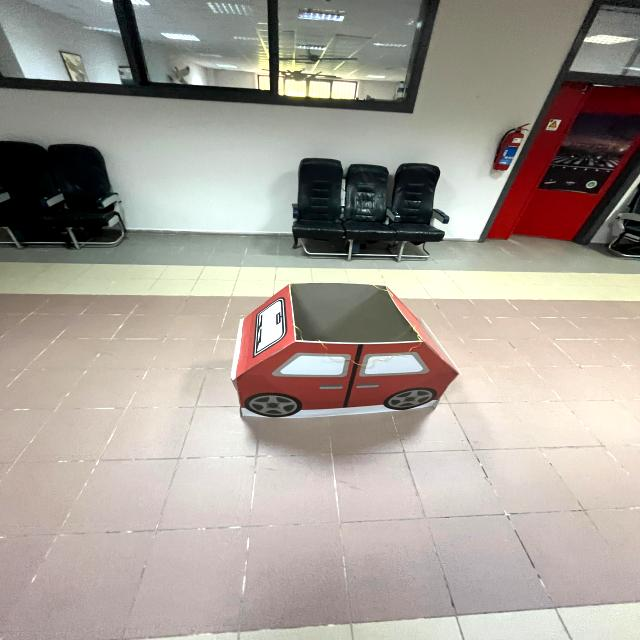red_car: (200, 273, 490, 442)
